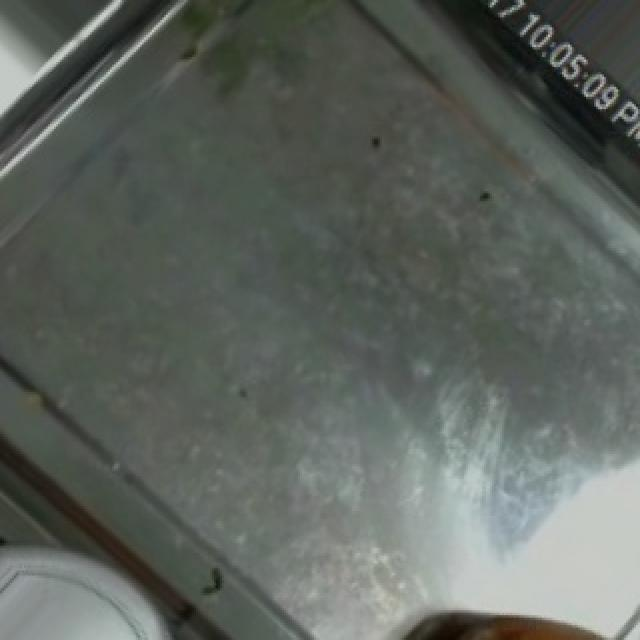fruit: (418, 593, 640, 640)
